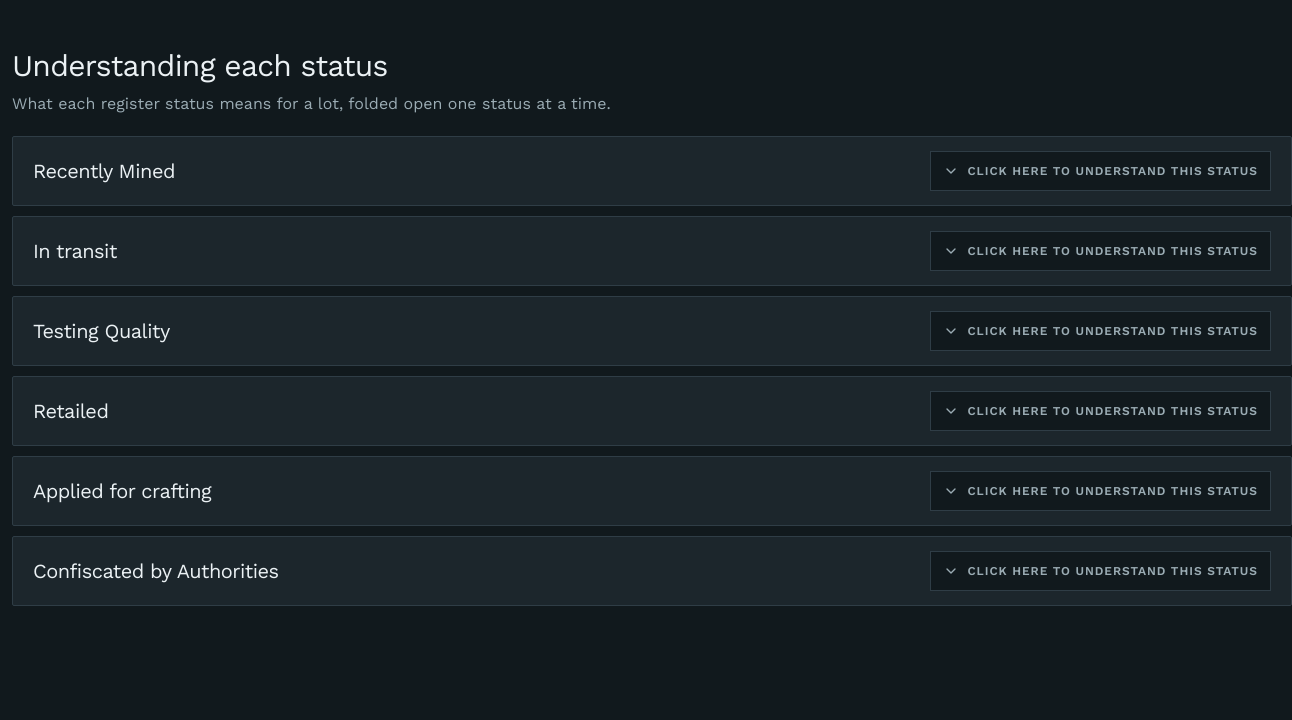
it: Status information section › shows the stored explanation text for a status
The width and height of the screenshot is (1292, 720).
Step 1. Click the button with test id "home.status_info_toggle.1" → x=1101, y=171, box [930,151,1271,191]
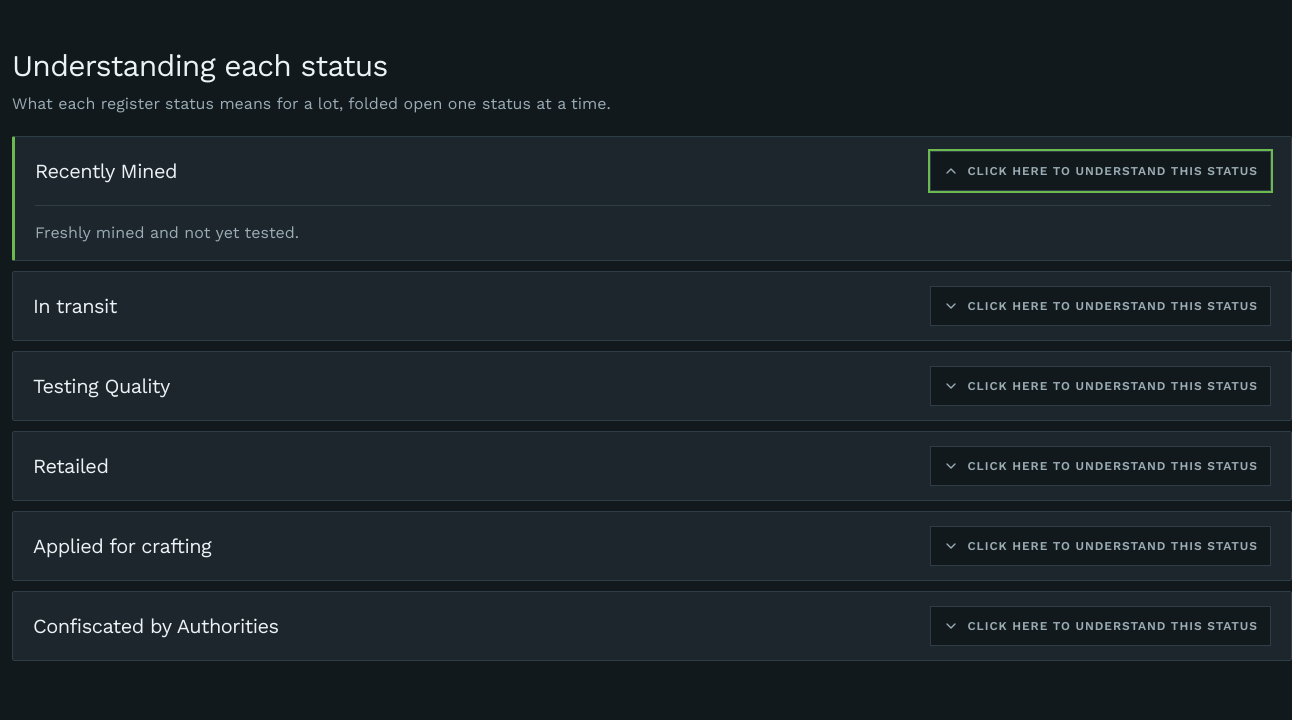
expect the text "Freshly mined and not yet tested." is shown: met, box [35,220,299,246]
